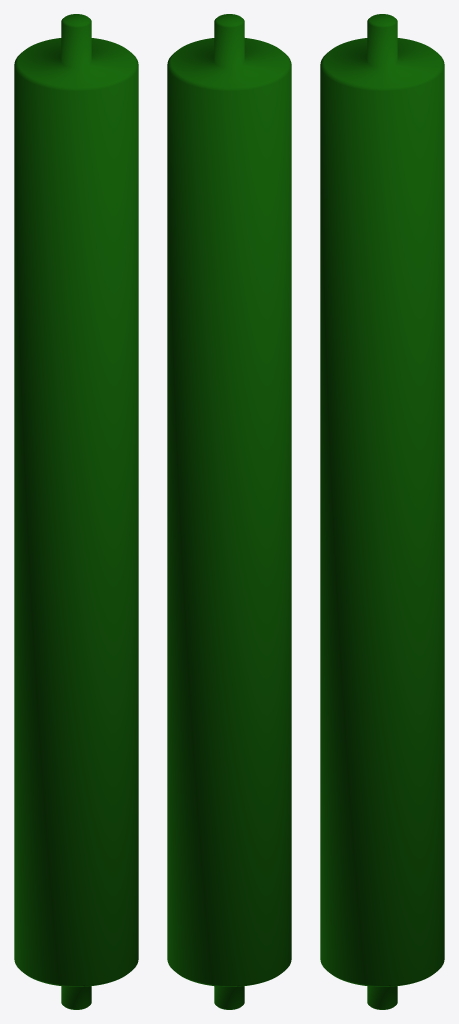
The model's file is Coil.fbx.
3 views of the same model, side by side, from view 1: azimuth 90°, elevation 25°; view 2: azimuth 210°, elevation 25°; view 3: azimuth 270°, elevation 25° (orthographic).
Visible parts, largest first — view 1: Coil_LP_UE4; view 2: Coil_LP_UE4; view 3: Coil_LP_UE4.
Part boxes in pixels (<box>): Coil_LP_UE4: <box>14,14,138,1009</box>; Coil_LP_UE4: <box>167,14,291,1009</box>; Coil_LP_UE4: <box>320,14,444,1009</box>.
Size of the model in its own units: 5 by 5 by 43.75.
